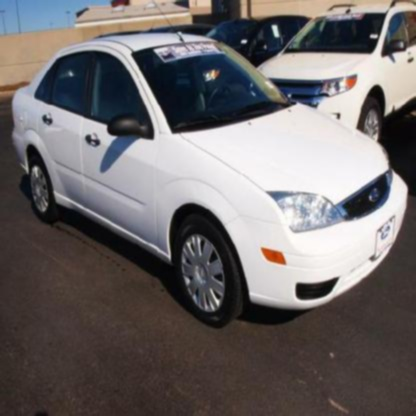Vehicle: (12, 1, 410, 330)
